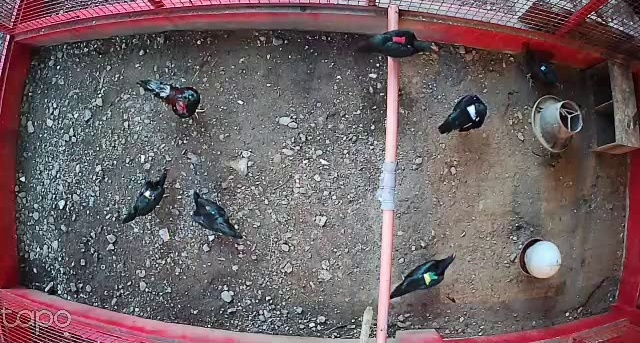Chicken: (387, 248, 457, 302), (352, 27, 443, 63), (188, 187, 245, 242), (123, 165, 174, 226), (516, 44, 571, 97), (436, 94, 491, 135)
Rooster: (134, 73, 207, 123)
Saddle_Color_Blue: (540, 65, 546, 70)
Saddle_Color_Red: (391, 34, 407, 45)
Saddle_Color_White: (466, 103, 479, 122)
Saddle_Color_Yellow: (139, 186, 155, 201)
Saddle_Color_YellowGreen: (423, 269, 438, 284)
